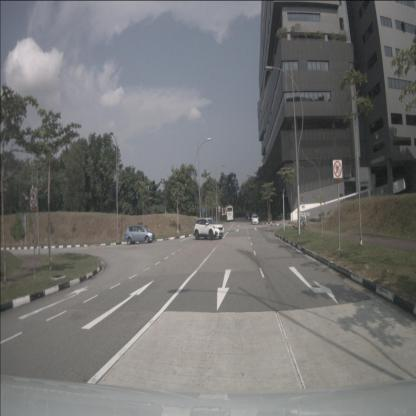vehicle-bicycle: (299, 214, 309, 230)
vehicle-bus-rigid: (226, 205, 234, 222)
vehicle-car: (194, 218, 224, 240), (125, 225, 155, 245), (251, 214, 259, 224), (246, 212, 251, 220), (247, 213, 252, 221)
